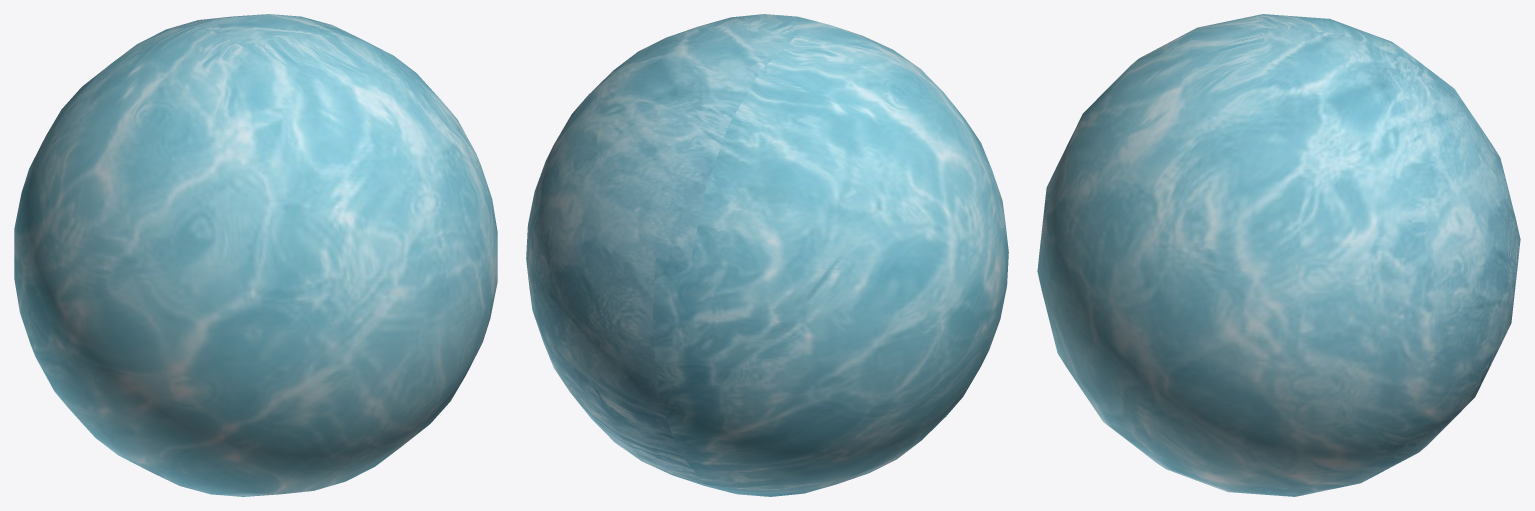
File: Water_Molecule.fbx
3 renders of one model, left to right at view 1: azimuth 30°, elevation 25°; view 2: azimuth 150°, elevation 25°; view 3: azimuth 270°, elevation 25°, orthographic.
Parts seen in each view (by area): view 1: Photosynthesis_03:water_mol_main; view 2: Photosynthesis_03:water_mol_main; view 3: Photosynthesis_03:water_mol_main.
Boxes of the visible parts, <box> form: Photosynthesis_03:water_mol_main: <box>14,14,497,496</box>; Photosynthesis_03:water_mol_main: <box>526,14,1008,496</box>; Photosynthesis_03:water_mol_main: <box>1037,14,1520,496</box>.
Size of the model in its own units: 2.99 by 2.99 by 2.99.
1 material, 1 textured.
